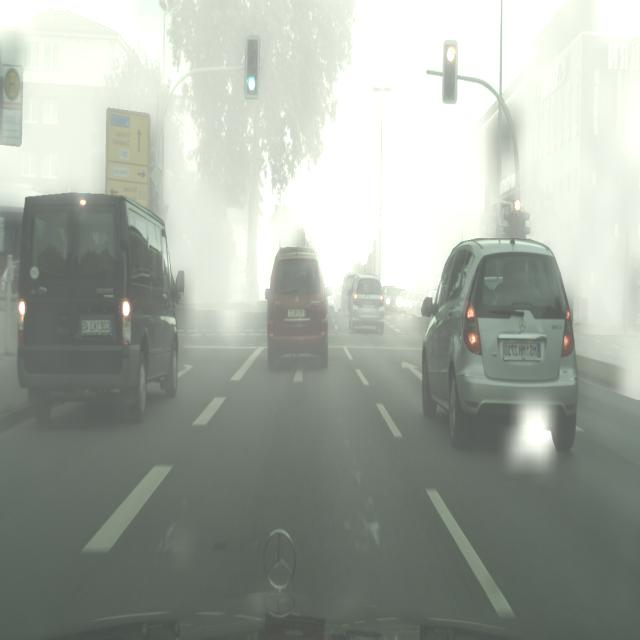train: (16, 191, 185, 426)
truck: (17, 191, 185, 426), (421, 238, 579, 457), (266, 244, 329, 371), (348, 274, 385, 334), (340, 272, 356, 316), (383, 285, 400, 311), (333, 278, 343, 310), (405, 292, 418, 312), (395, 291, 407, 311)
